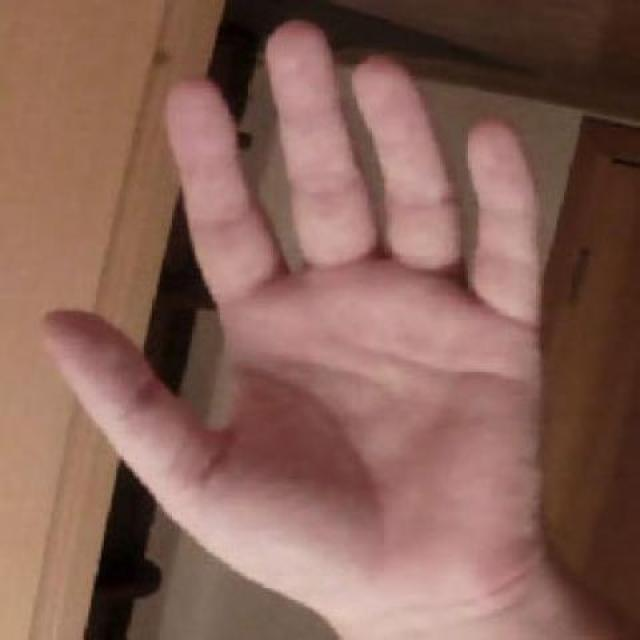Open Hand: (16, 9, 600, 640)
